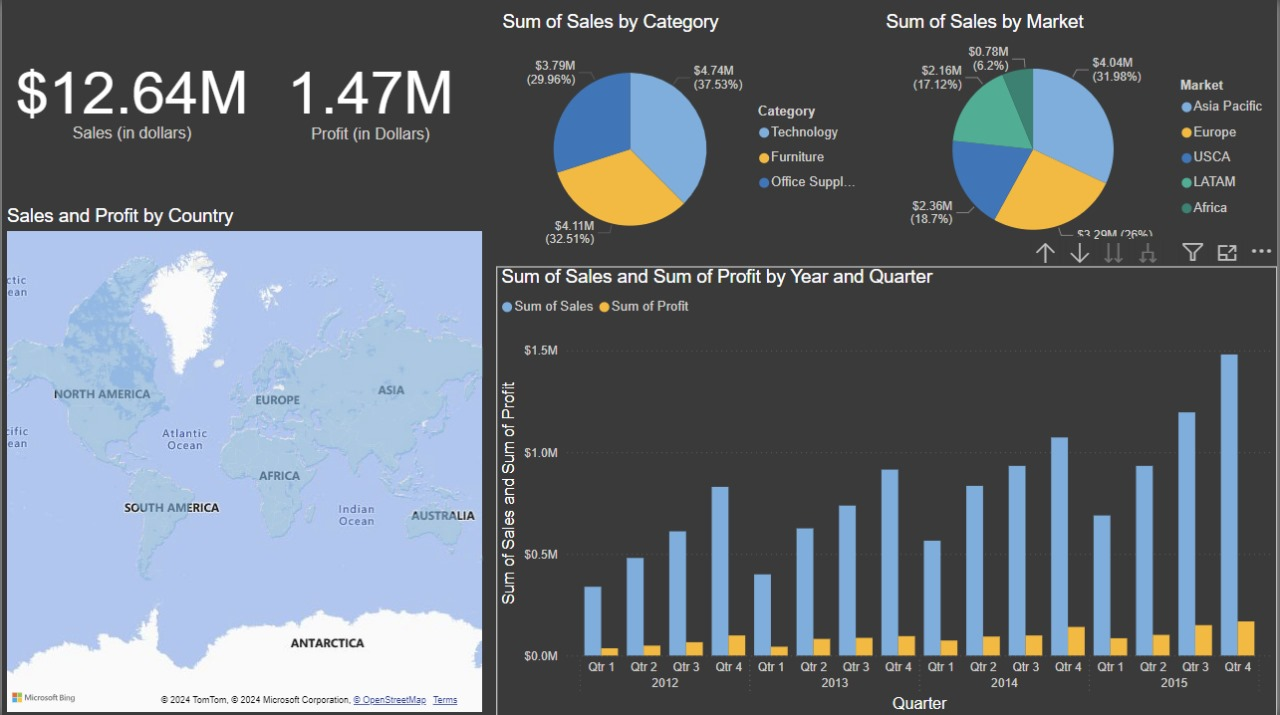

The page's visual inventory and layout, read from the dashboard file:
{"tool":"powerbi","page":{"name":"Page 2","canvas":[1280,720],"ordinal":0},"visuals":[{"type":"card","fields":{"Values":["Sum(Orders.Sales)"]},"box":[0,0,261.2,193.8],"z":0},{"type":"card","fields":{"Values":["Sum(Orders.Profit)"]},"box":[252.3,0,234.9,194.2],"z":1000},{"type":"filledMap","fields":{"Category":["Orders.Country"]},"box":[0,205.8,487.2,514],"z":2000},{"type":"pieChart","fields":{"Y":["Sum(Orders.Sales)"],"Category":["Orders.Category"]},"box":[496.9,11.2,377.4,256.8],"z":3000},{"type":"pieChart","fields":{"Y":["Sum(Orders.Sales)"],"Category":["Orders.Market"]},"box":[882.1,11.2,397.5,256.8],"z":4000},{"type":"clusteredColumnChart","fields":{"Y":["Sum(Orders.Sales)","Sum(Orders.Profit)"],"Category":["Orders.Order Date.Variation.Date Hierarchy.Year","Orders.Order Date.Variation.Date Hierarchy.Quarter"]},"box":[496.5,267.4,783.7,452.3],"z":5000}]}

Visuals, with their boxes in screenshot pixels (x1, y1, x2, y2), scaled from the page's 1280x720 canvas onto the 1280x715 screenshot:
card - Sum(Orders.Sales): select_region(0, 0, 261, 192)
card - Sum(Orders.Profit): select_region(252, 0, 487, 193)
filledMap - Orders.Country: select_region(0, 204, 487, 714)
pieChart - Sum(Orders.Sales) x Orders.Category: select_region(497, 11, 874, 266)
pieChart - Sum(Orders.Sales) x Orders.Market: select_region(882, 11, 1279, 266)
clusteredColumnChart - Sum(Orders.Sales) x Sum(Orders.Profit): select_region(496, 266, 1279, 714)
